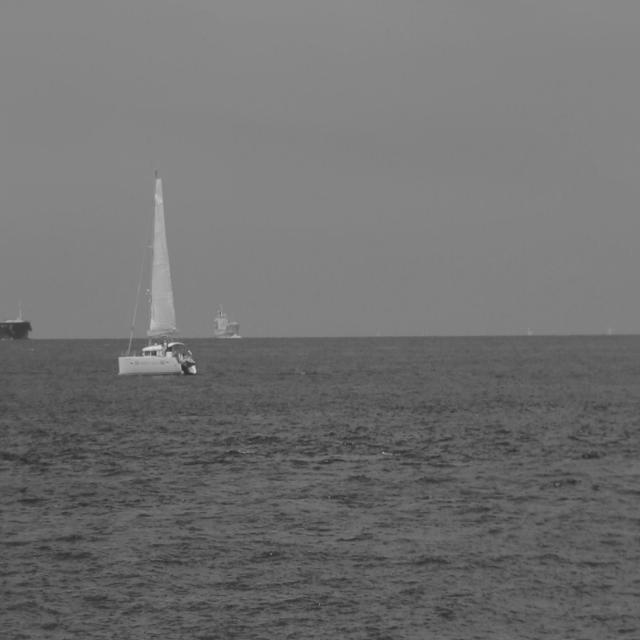ship: (119, 174, 202, 376), (0, 314, 28, 342), (213, 312, 239, 338)
